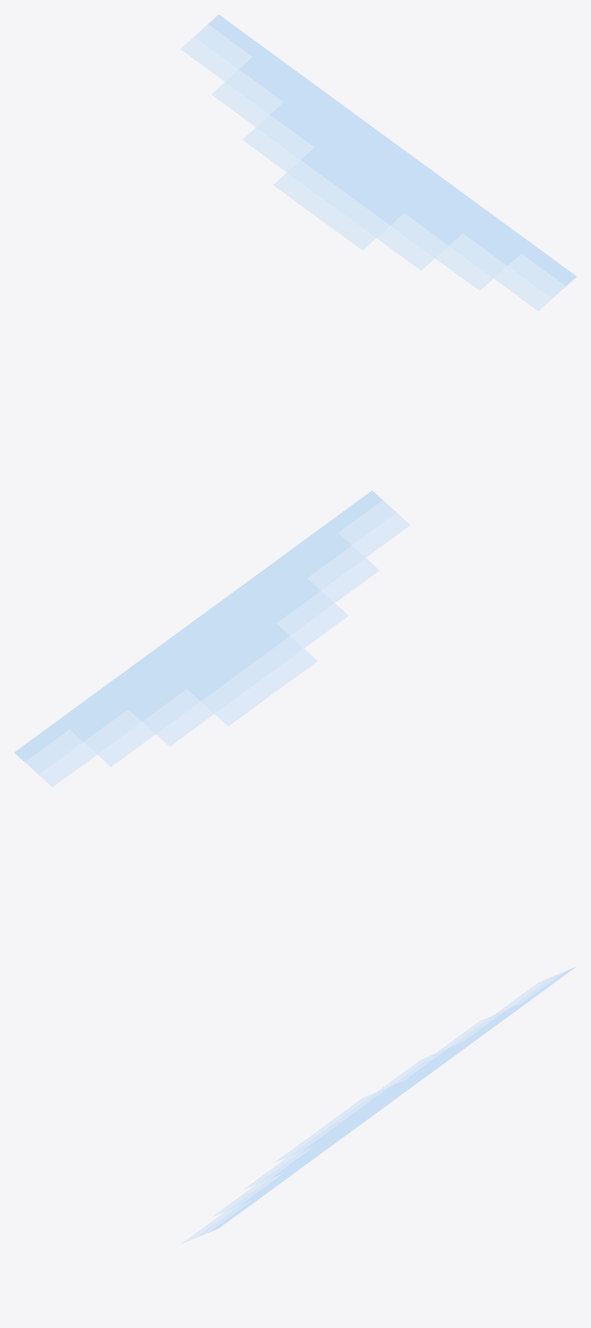
3 views of the same model, one above another, from view 1: azimuth 30°, elevation 25°; view 2: azimuth 150°, elevation 25°; view 3: azimuth 330°, elevation 25° (orthographic).
Size of the model in its own units: 0.3301 by 0.2081 by 1.
1 material, 1 textured.
